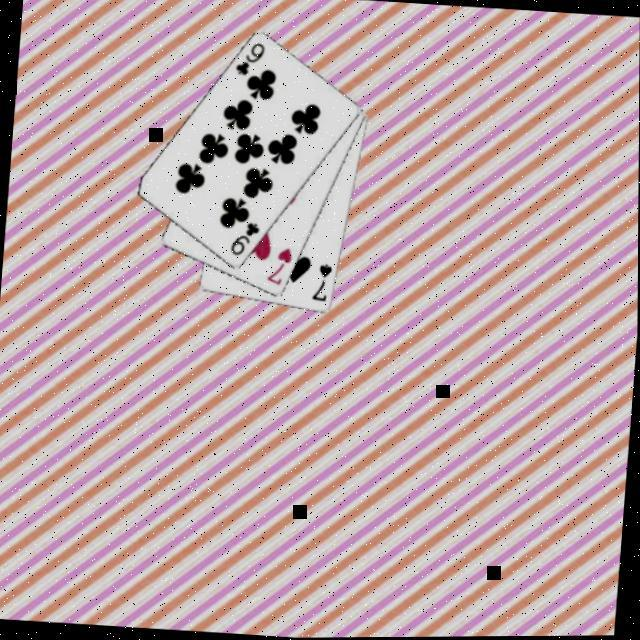7H: (261, 246, 293, 290)
7S: (306, 262, 334, 308)
9C: (224, 220, 261, 262), (229, 41, 266, 82)
